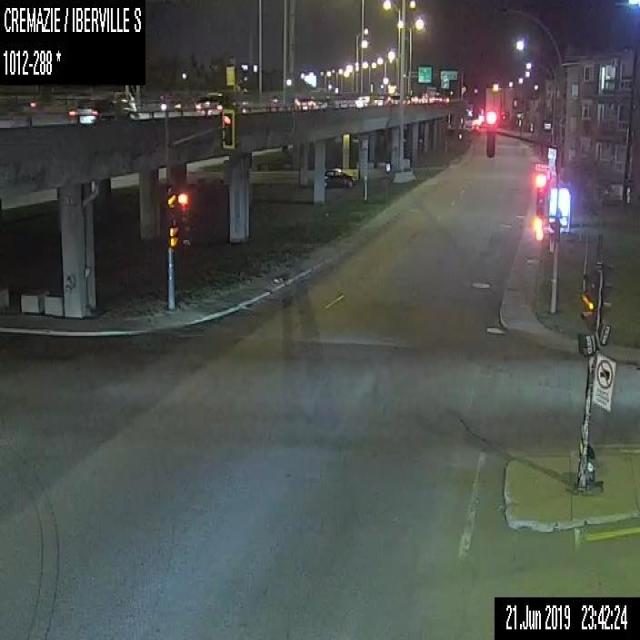vehicle: (68, 97, 117, 124), (194, 90, 238, 114), (105, 89, 137, 113), (323, 167, 356, 189), (158, 94, 182, 114), (294, 94, 316, 109), (353, 94, 378, 105), (374, 93, 394, 105), (390, 90, 399, 104), (471, 122, 479, 132), (403, 96, 411, 105)
